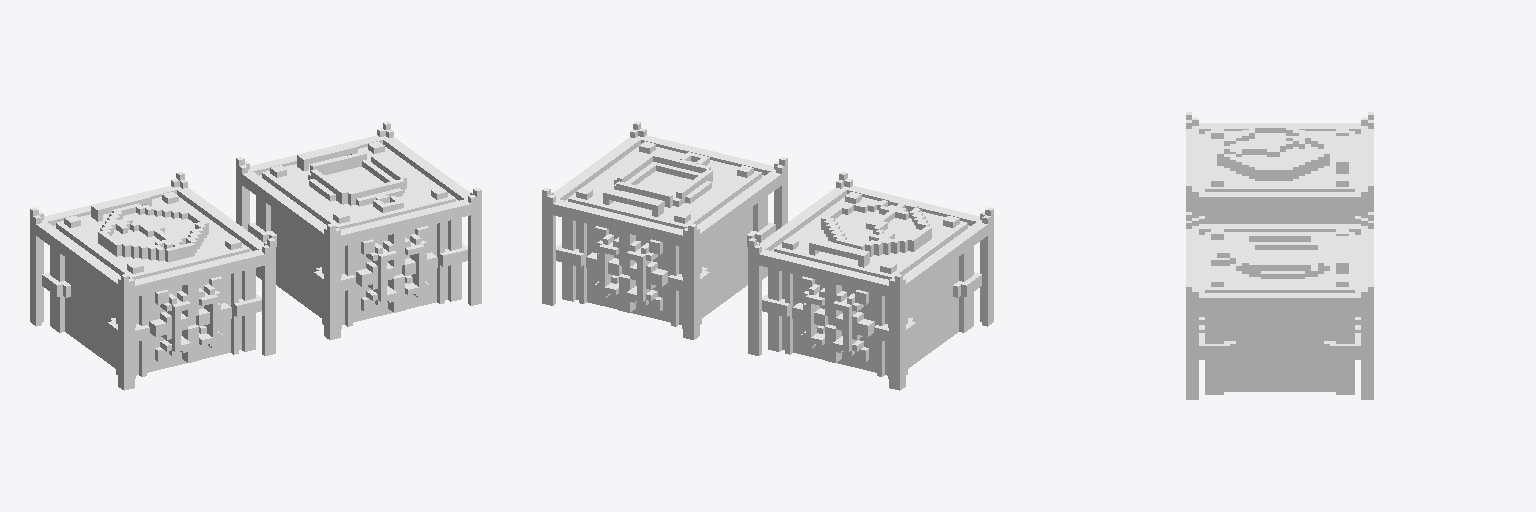
The model's file is Reloj-Rec.obj.
3 renders of one model, left to right at view 1: azimuth 30°, elevation 25°; view 2: azimuth 150°, elevation 25°; view 3: azimuth 270°, elevation 25°, orthographic.
Parts seen in each view (by area): view 1: object 1; view 2: object 1; view 3: object 1.
Part boxes in pixels (left/top/right/bottom): object 1: left=30, top=121, right=481, bottom=390; object 1: left=542, top=121, right=993, bottom=390; object 1: left=1186, top=112, right=1373, bottom=399.
Bounding box in the file's own units: 6.6 × 2 × 3.